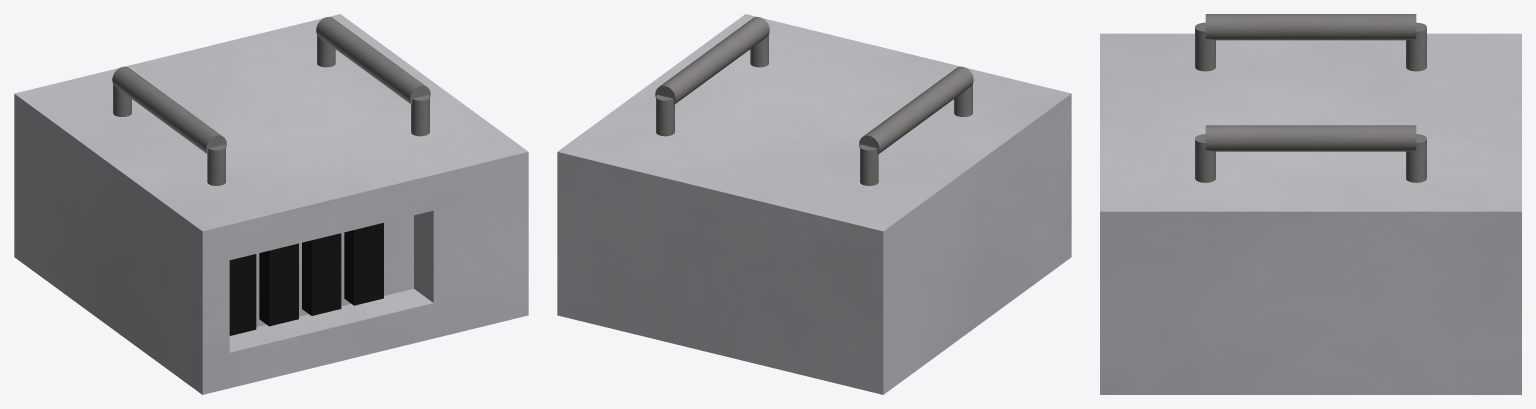
The model's file is power05_battery_s.glb.
3 views of the same model, side by side, from view 1: azimuth 30°, elevation 25°; view 2: azimuth 150°, elevation 25°; view 3: azimuth 270°, elevation 25° (orthographic). The views are drawn at different scales.
Parts seen in each view (by area): view 1: battery_case, cell_modules, handles; view 2: battery_case, handles; view 3: battery_case, handles.
Part boxes in pixels (bbox=[...]): battery_case: bbox=[14, 14, 528, 394]; cell_modules: bbox=[229, 223, 383, 335]; handles: bbox=[112, 17, 430, 185]; battery_case: bbox=[557, 14, 1071, 394]; handles: bbox=[655, 17, 973, 185]; battery_case: bbox=[1100, 33, 1521, 394]; handles: bbox=[1195, 14, 1426, 182].
Bounding box in the file's own units: 0.48 × 0.295 × 0.48.
4 materials, 2 textured.
